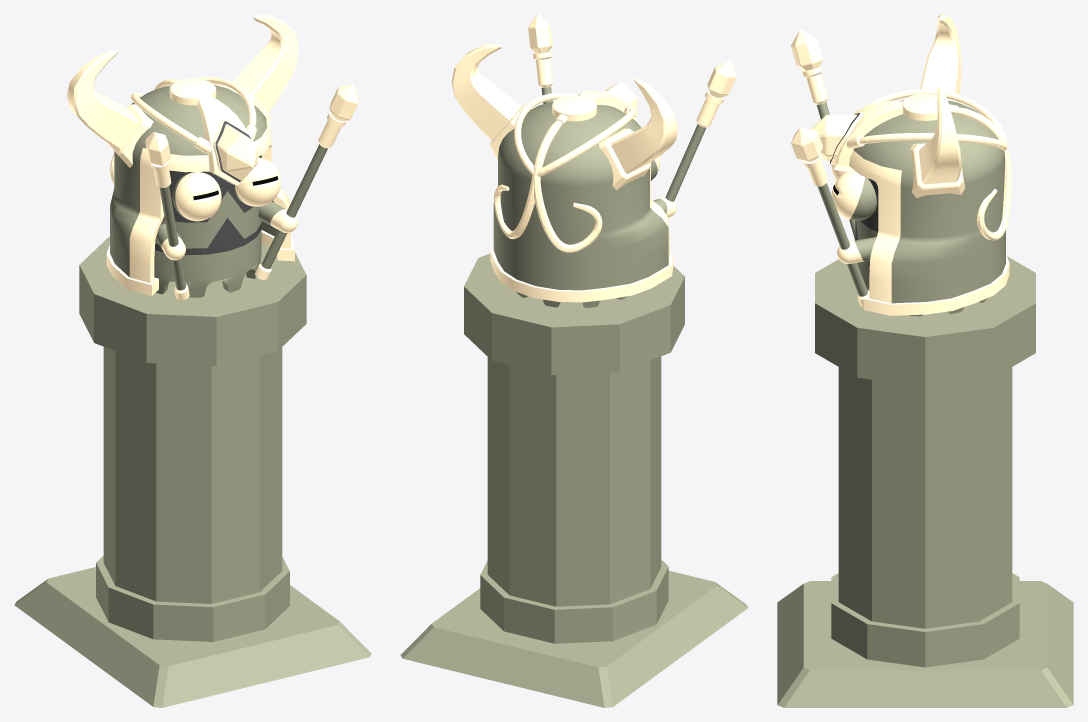
Rendered from statue_mage.fbx.
3 views of the same model, side by side, from view 1: azimuth 30°, elevation 25°; view 2: azimuth 150°, elevation 25°; view 3: azimuth 270°, elevation 25° (orthographic). The views are drawn at different scales.
Visible parts, largest first — view 1: pCylinder1, statue_mage, gotchi_adept2, body, pPlane111, pPlane110, pCylinder11 (×2), eye2, pCube57, polySurface25, eye1, pCube58 (×2) (+2 smaller); view 2: pCylinder1, gotchi_adept2, statue_mage, pPlane111, pPlane110, pCylinder11 (×2), polySurface25, pCube58 (×2), pCylinder12, pCylinder9, pTorus5; view 3: pCylinder1, gotchi_adept2, statue_mage, pPlane110, pCylinder11 (×2), pPlane111, polySurface25, pCube58 (×2), eye1, pCylinder9, pCube57, body (+2 smaller).
Boxes of the visible parts, x1,y1,x2,y2 form: pCylinder1: (79,237,306,641); statue_mage: (14,567,371,707); gotchi_adept2: (106,78,294,295); body: (154,155,261,297); pPlane111: (67,50,153,167); pPlane110: (218,14,298,123); pCylinder11 (×2): (150,112,346,300); eye2: (172,172,221,221); pCube57: (217,124,257,179); polySurface25: (131,77,256,154); eye1: (235,157,280,206); pCube58 (×2): (145,84,359,165); pCylinder1: (464,253,684,643); gotchi_adept2: (490,90,673,302); statue_mage: (400,570,748,707); pPlane111: (599,78,677,190); pPlane110: (451,44,535,159); pCylinder11 (×2): (533,51,724,201); polySurface25: (514,92,636,176); pCube58 (×2): (528,14,736,97); pCylinder12: (534,174,602,252); pCylinder9: (493,173,535,239); pTorus5: (533,114,567,174); pCylinder1: (815,256,1035,667); gotchi_adept2: (833,93,1009,315); statue_mage: (777,581,1073,707); pPlane110: (910,87,964,197); pCylinder11 (×2): (802,65,869,306); pPlane111: (920,14,961,103); polySurface25: (846,89,1007,150); pCube58 (×2): (791,29,822,161); eye1: (831,170,876,220); pCylinder9: (976,146,1011,240); pCube57: (810,114,856,160); body: (855,178,987,316).
Bounding box in the file's own units: 2.2 × 5.49 × 2.45.
